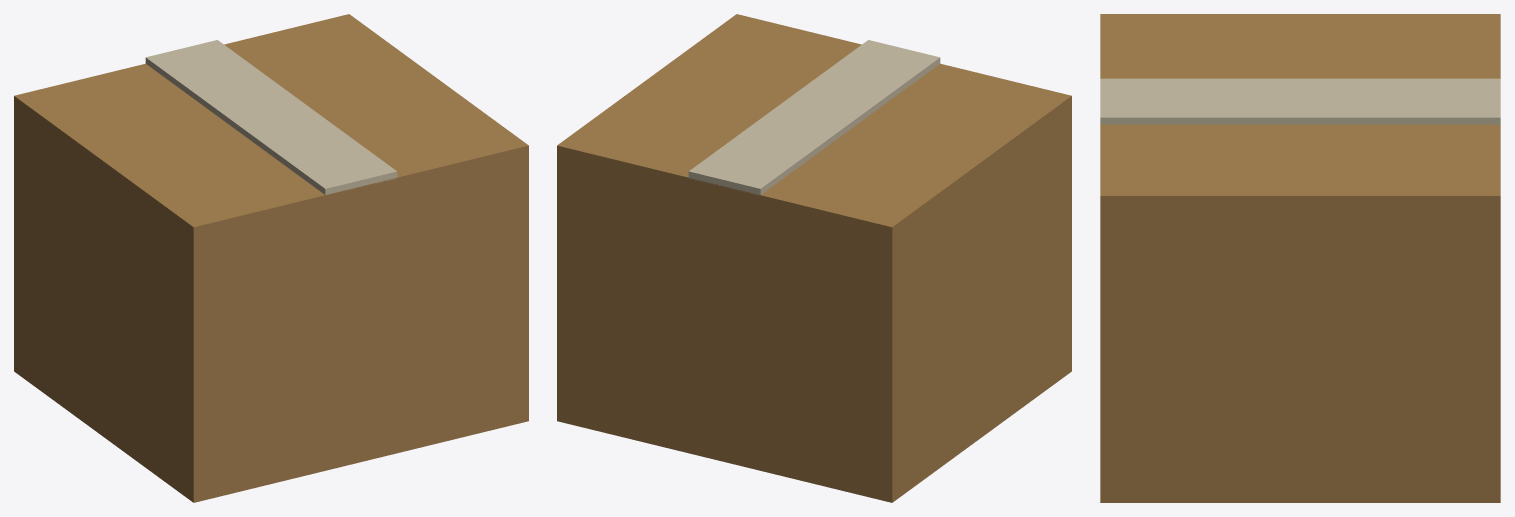
The model's file is Prop_Caja.obj.
3 views of the same model, side by side, from view 1: azimuth 30°, elevation 25°; view 2: azimuth 150°, elevation 25°; view 3: azimuth 270°, elevation 25° (orthographic). The views are drawn at different scales.
Visible parts, largest first — view 1: carton, cinta; view 2: carton, cinta; view 3: carton, cinta.
Boxes of the visible parts, left/top/right/bottom form: carton: left=14, top=14, right=528, bottom=502; cinta: left=145, top=40, right=397, bottom=194; carton: left=557, top=14, right=1071, bottom=502; cinta: left=688, top=40, right=940, bottom=195; carton: left=1100, top=14, right=1500, bottom=502; cinta: left=1100, top=78, right=1500, bottom=124.
Bounding box in the file's own units: 0.28 × 0.225 × 0.26.
